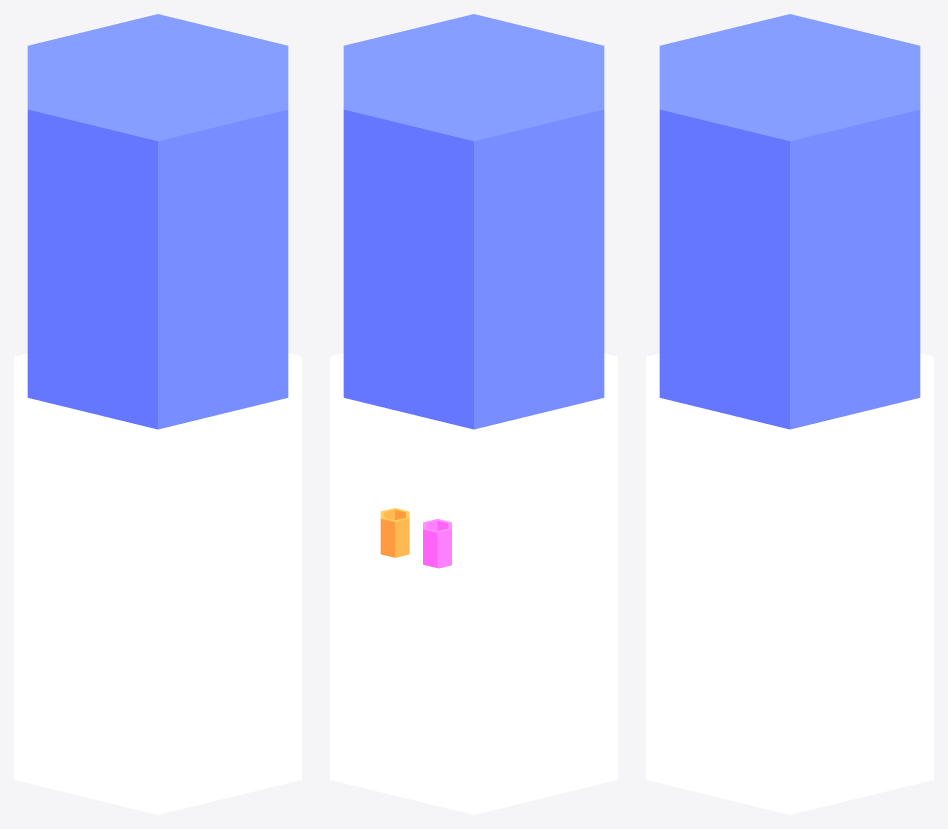
Rendered from WaterDispenser.fbx.
3 views of the same model, side by side, from view 1: azimuth 30°, elevation 25°; view 2: azimuth 150°, elevation 25°; view 3: azimuth 270°, elevation 25° (orthographic).
Parts seen in each view (by area): view 1: BOTTLE1; view 2: BOTTLE1; view 3: BOTTLE1.
Boxes of the visible parts, left/top/right/bottom form: BOTTLE1: left=14, top=14, right=301, bottom=814; BOTTLE1: left=330, top=14, right=617, bottom=814; BOTTLE1: left=646, top=14, right=933, bottom=814.
Size of the model in its own units: 171 by 378 by 148.
